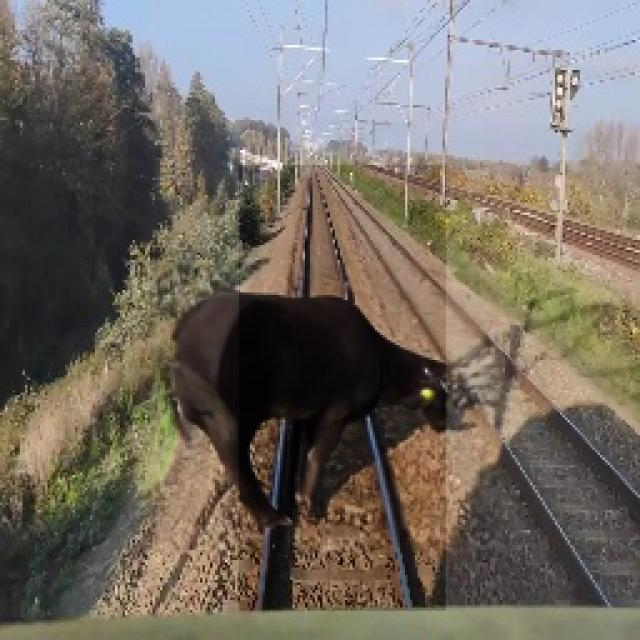rail: (240, 167, 447, 612)
